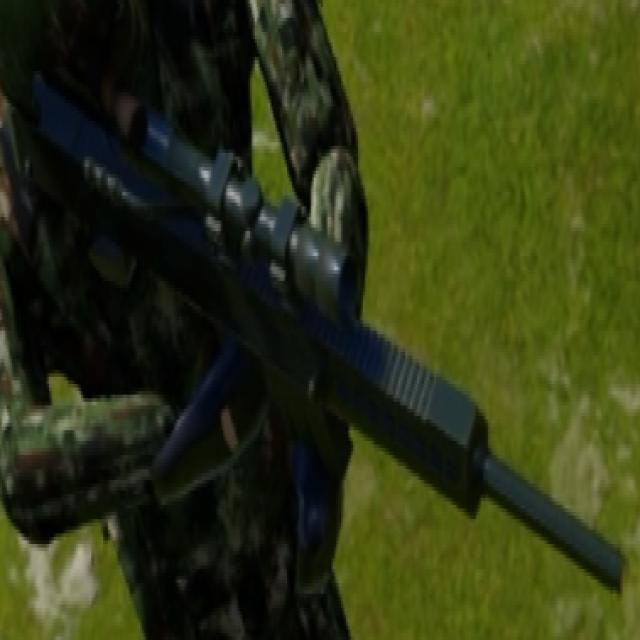RifleTel: (34, 32, 630, 620)
